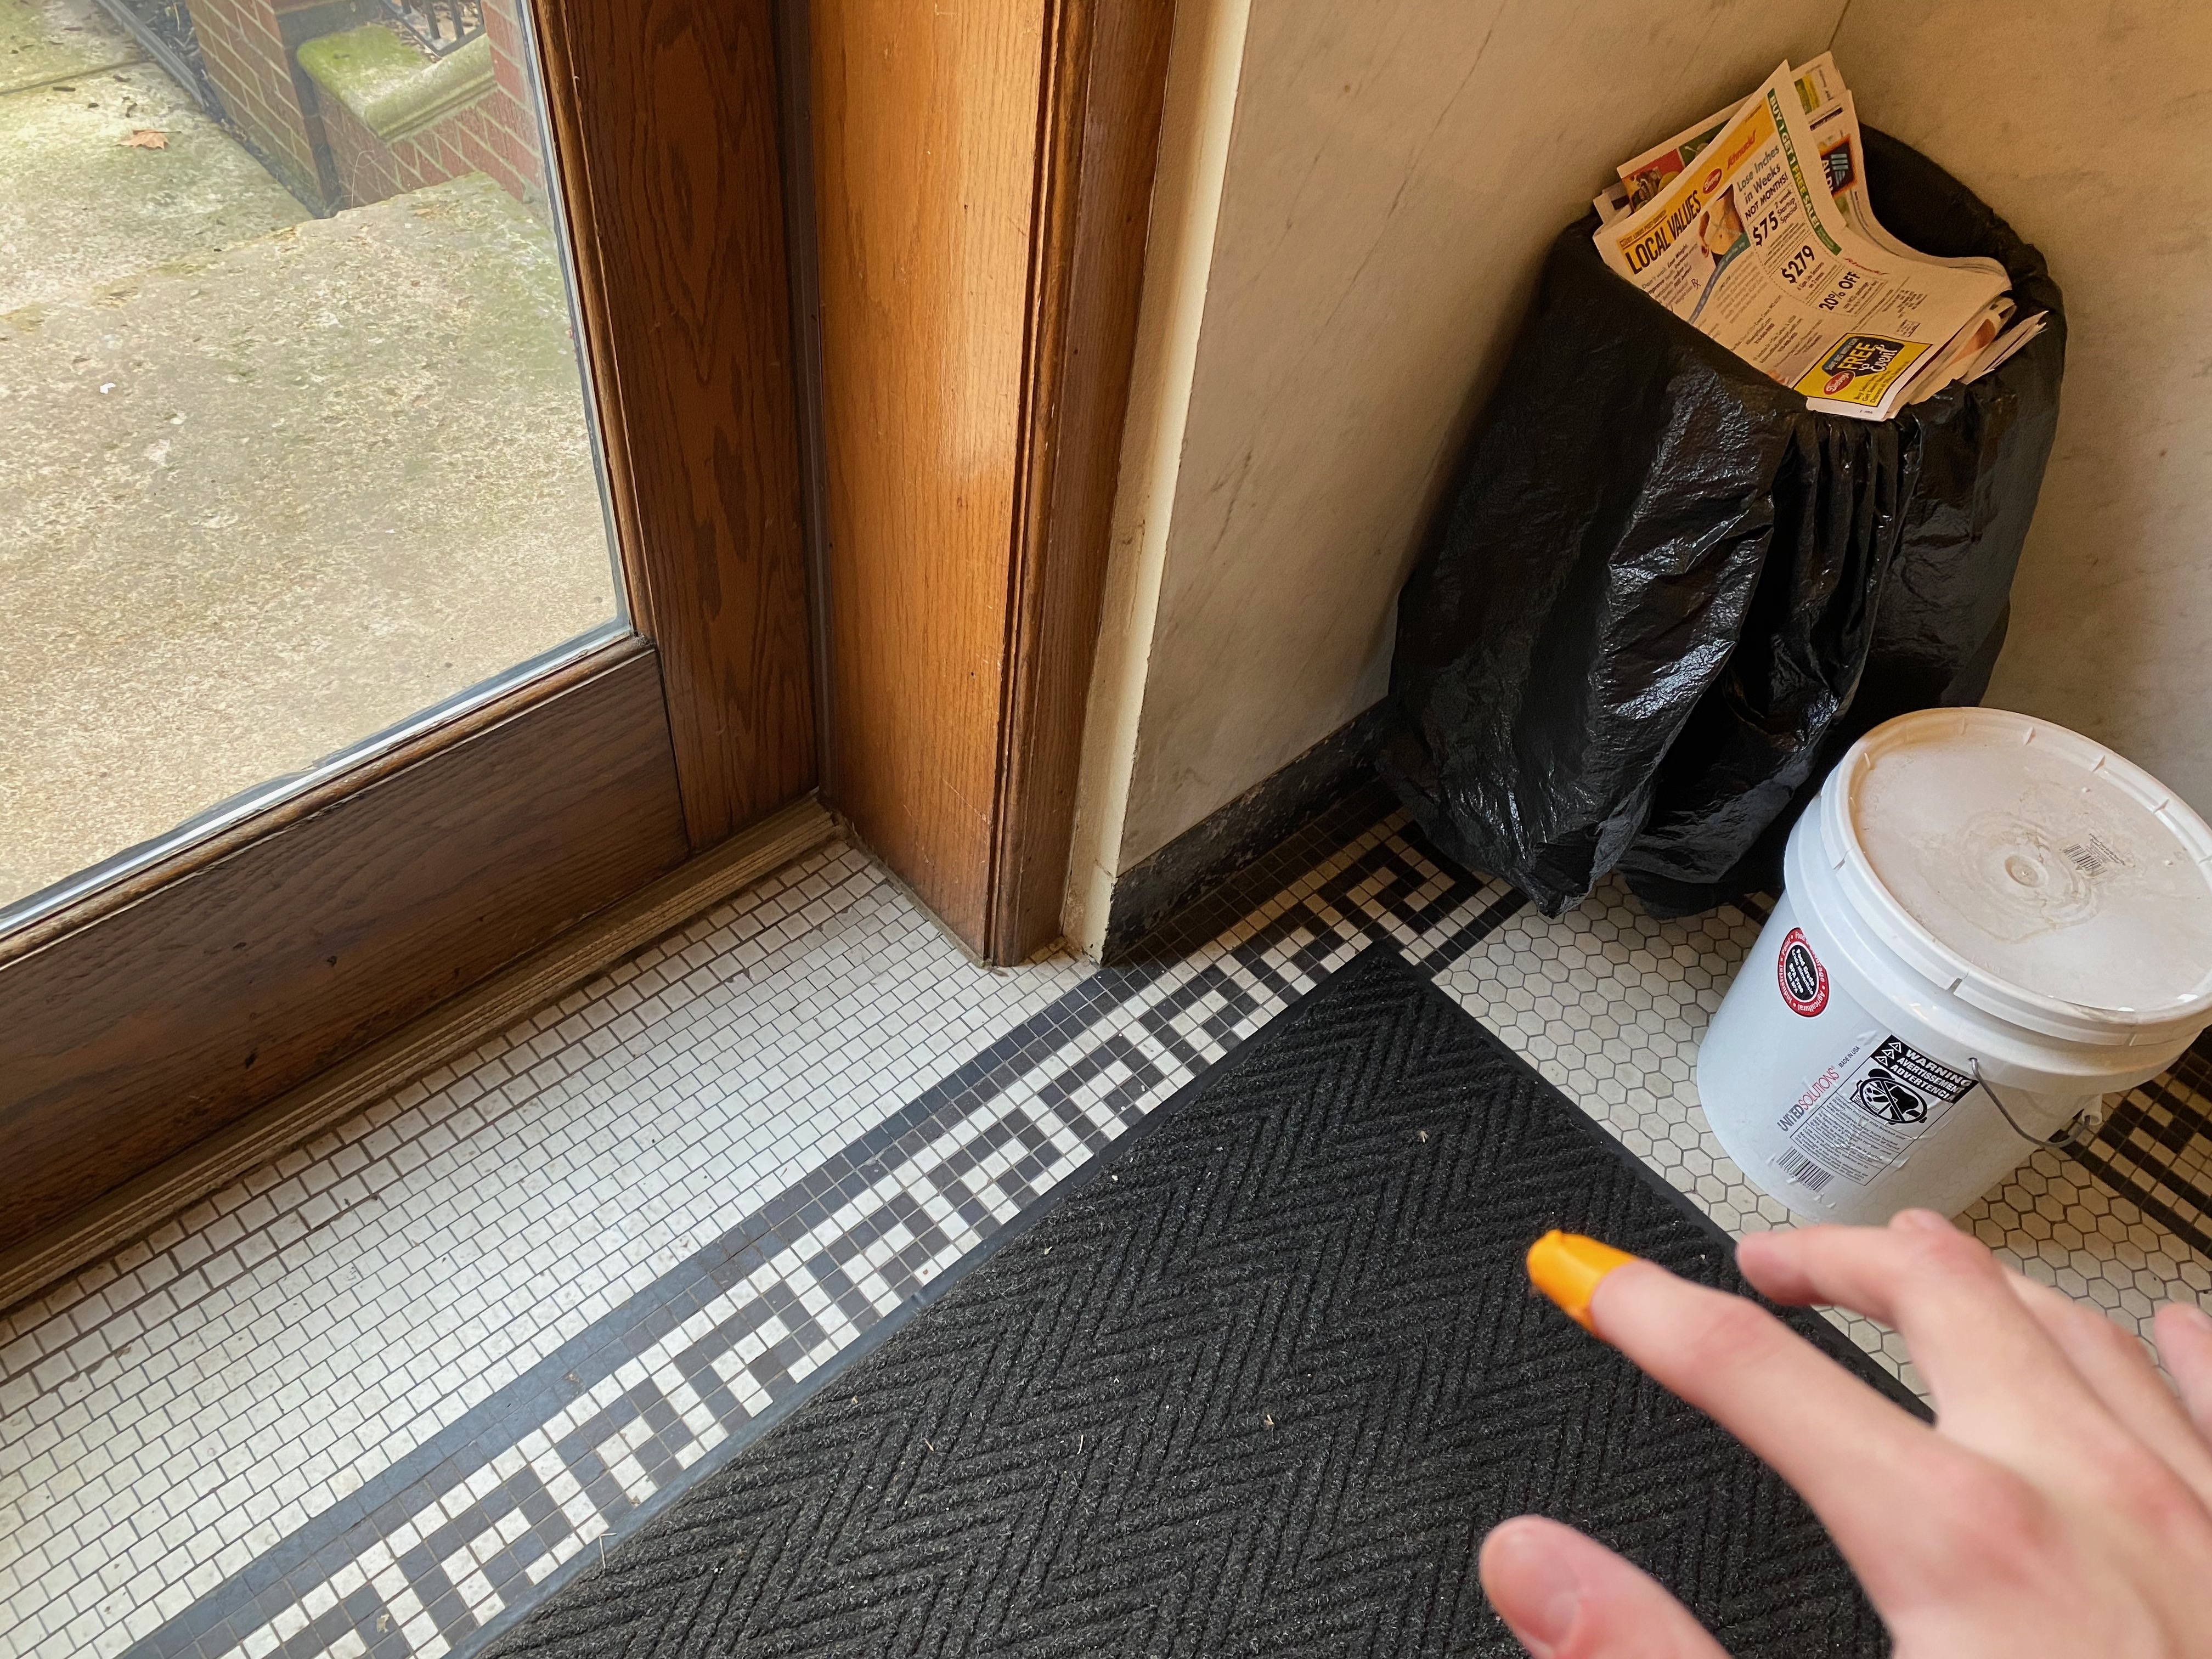fingertip: (1489, 1216, 1663, 1317)
